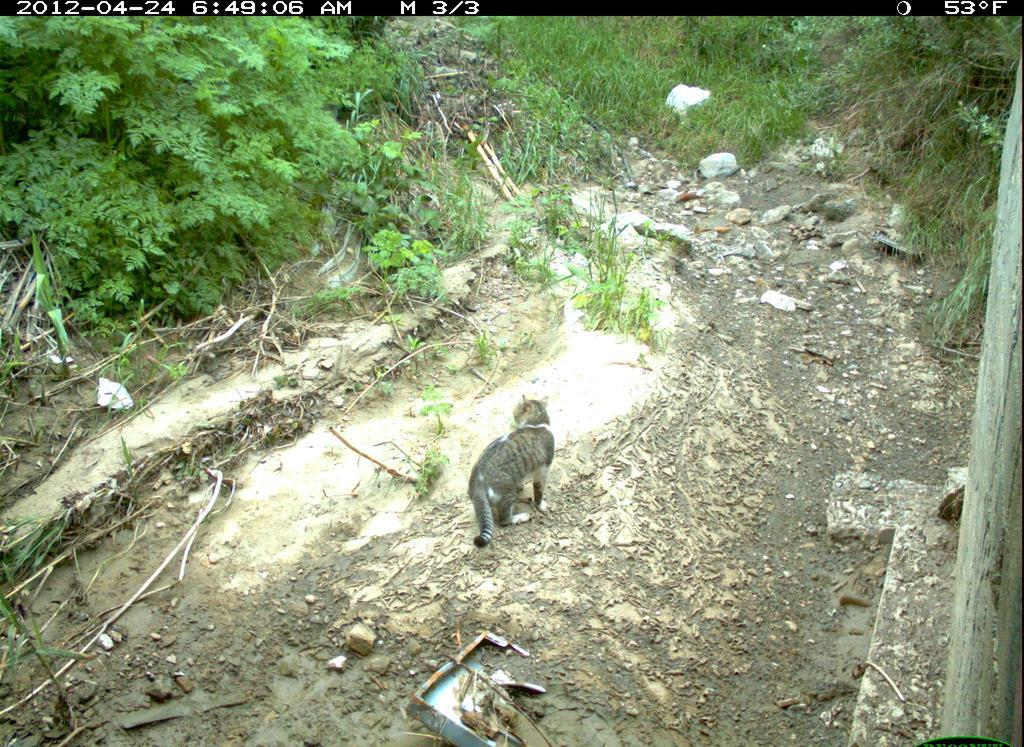cat: (455, 392, 596, 559)
